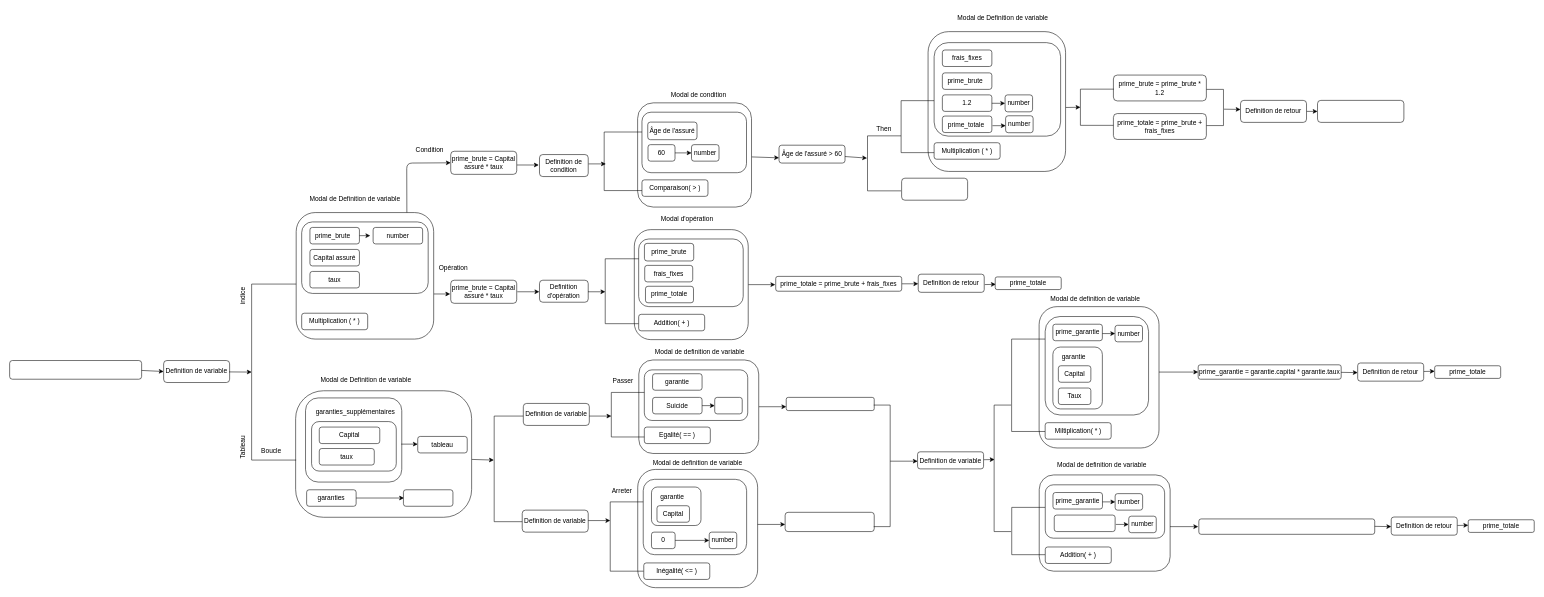
Image size: 1544x597. Some labels were removed from this diagram. The shapes that lost their labels are listed below. From the top down, each one's centre as x and y in pixels, then its label:
At point 1360,111: "prime_totale, prime_brute".
At point 75,369: "Creation d'une nouvelle formule de calcul".
At point 830,404: "garantie == suicide".
At point 829,522: "garantie.capital <= suicide".
At point 1084,523: "prime_totale_temp".
At point 1286,526: "prime_totale_temp = prime_totale_temp + prime_garantie".
